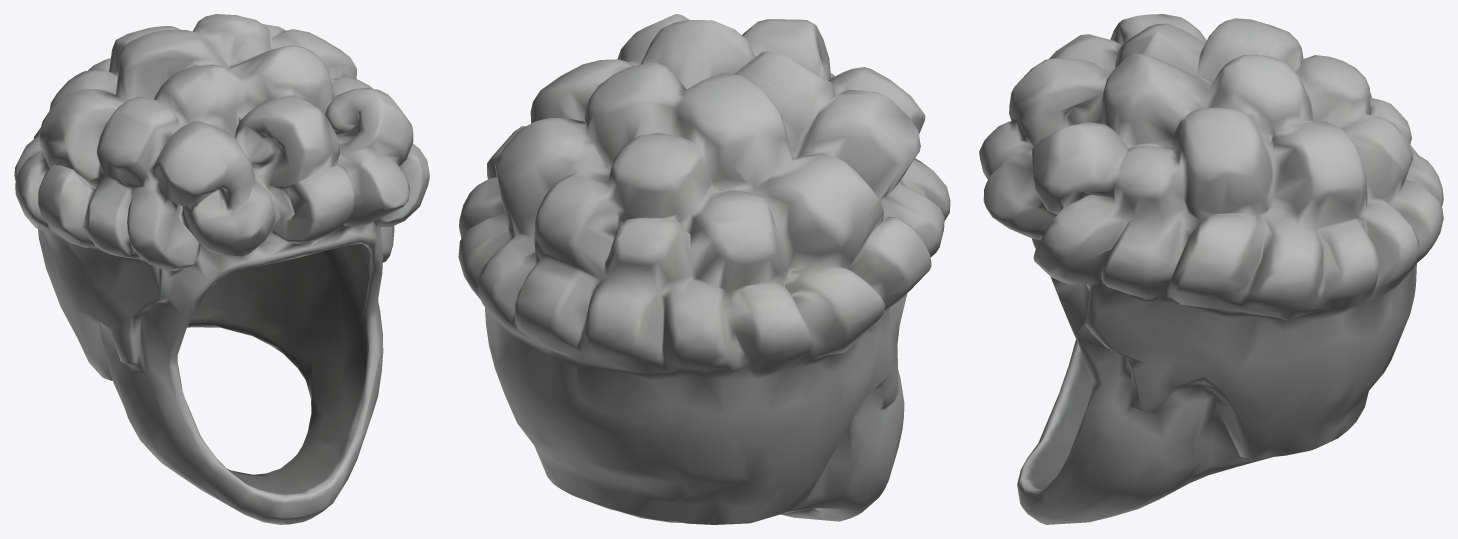
Rendered from hair-curls.glb.
3 renders of one model, left to right at view 1: azimuth 30°, elevation 25°; view 2: azimuth 150°, elevation 25°; view 3: azimuth 270°, elevation 25°, orthographic. The views are drawn at different scales.
Visible parts, largest first — view 1: hair-curls; view 2: hair-curls; view 3: hair-curls.
Boxes of the visible parts, x1,y1,x2,y2 form: hair-curls: (14, 14, 429, 524); hair-curls: (458, 14, 950, 524); hair-curls: (979, 14, 1443, 524).
Size of the model in its own units: 0.8457 by 1 by 0.8871.
Materials: 1 (1 with a texture image).
